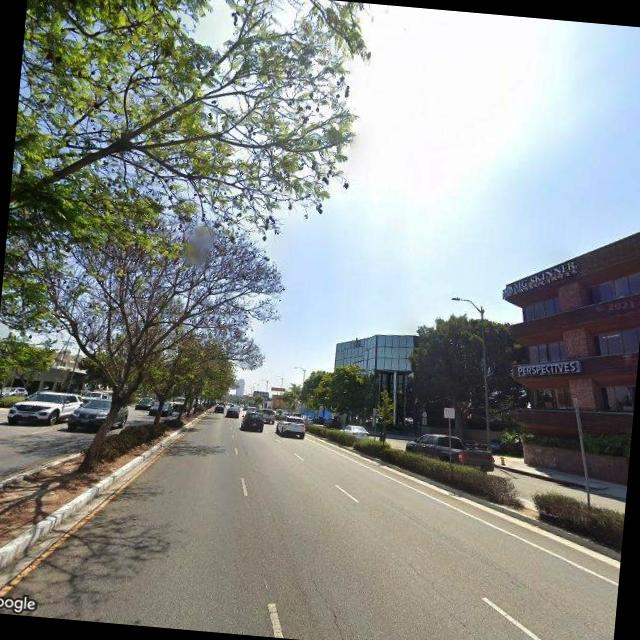pothole: (299, 571, 359, 640), (396, 554, 452, 602)
